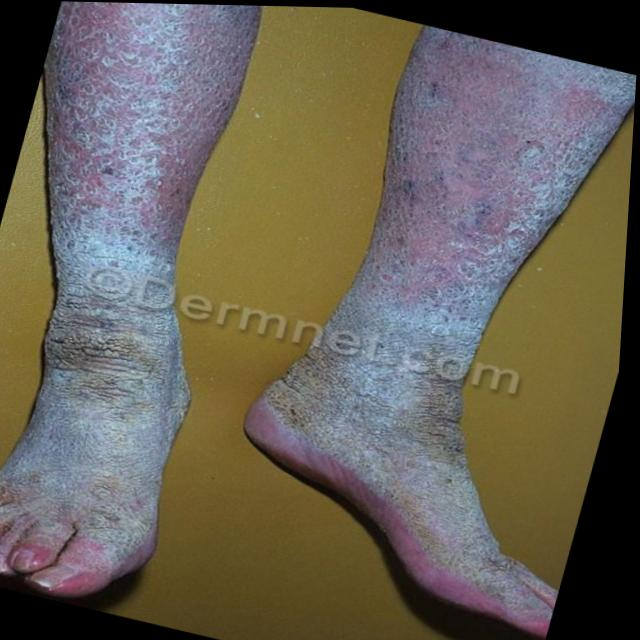liquenificacion 1: (261, 32, 636, 620), (0, 1, 258, 559)
liquenificacion 2: (271, 36, 636, 599), (0, 2, 195, 564)
liquenificacion 3: (265, 275, 546, 609), (0, 221, 194, 565)
